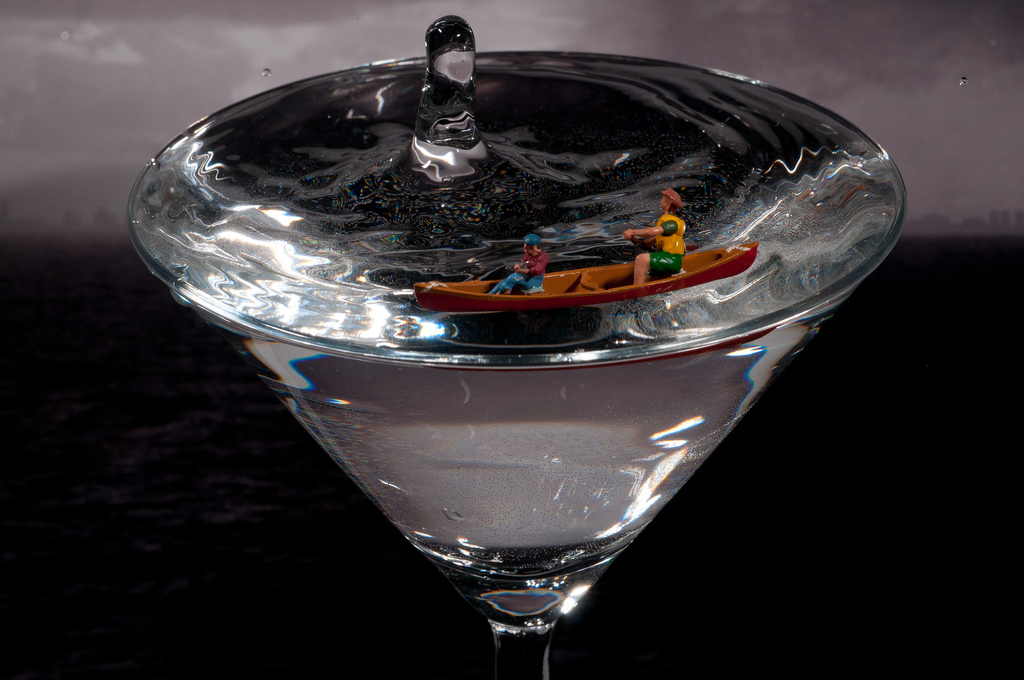glass of water: (133, 24, 913, 678)
